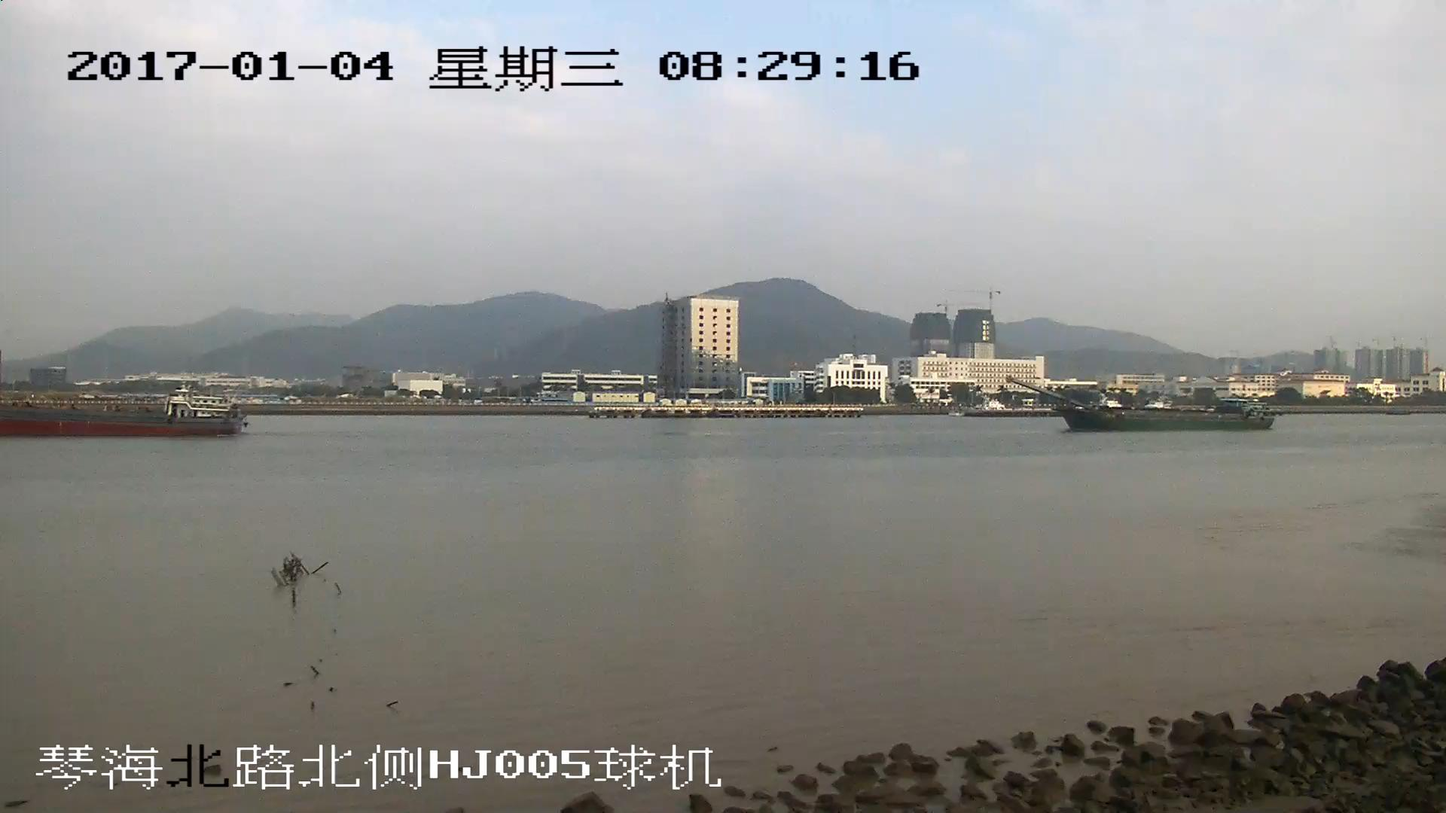bulk cargo carrier: (1010, 377, 1277, 428), (0, 391, 246, 437)
